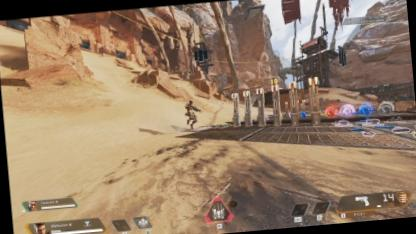Target: (183, 98, 198, 128)
